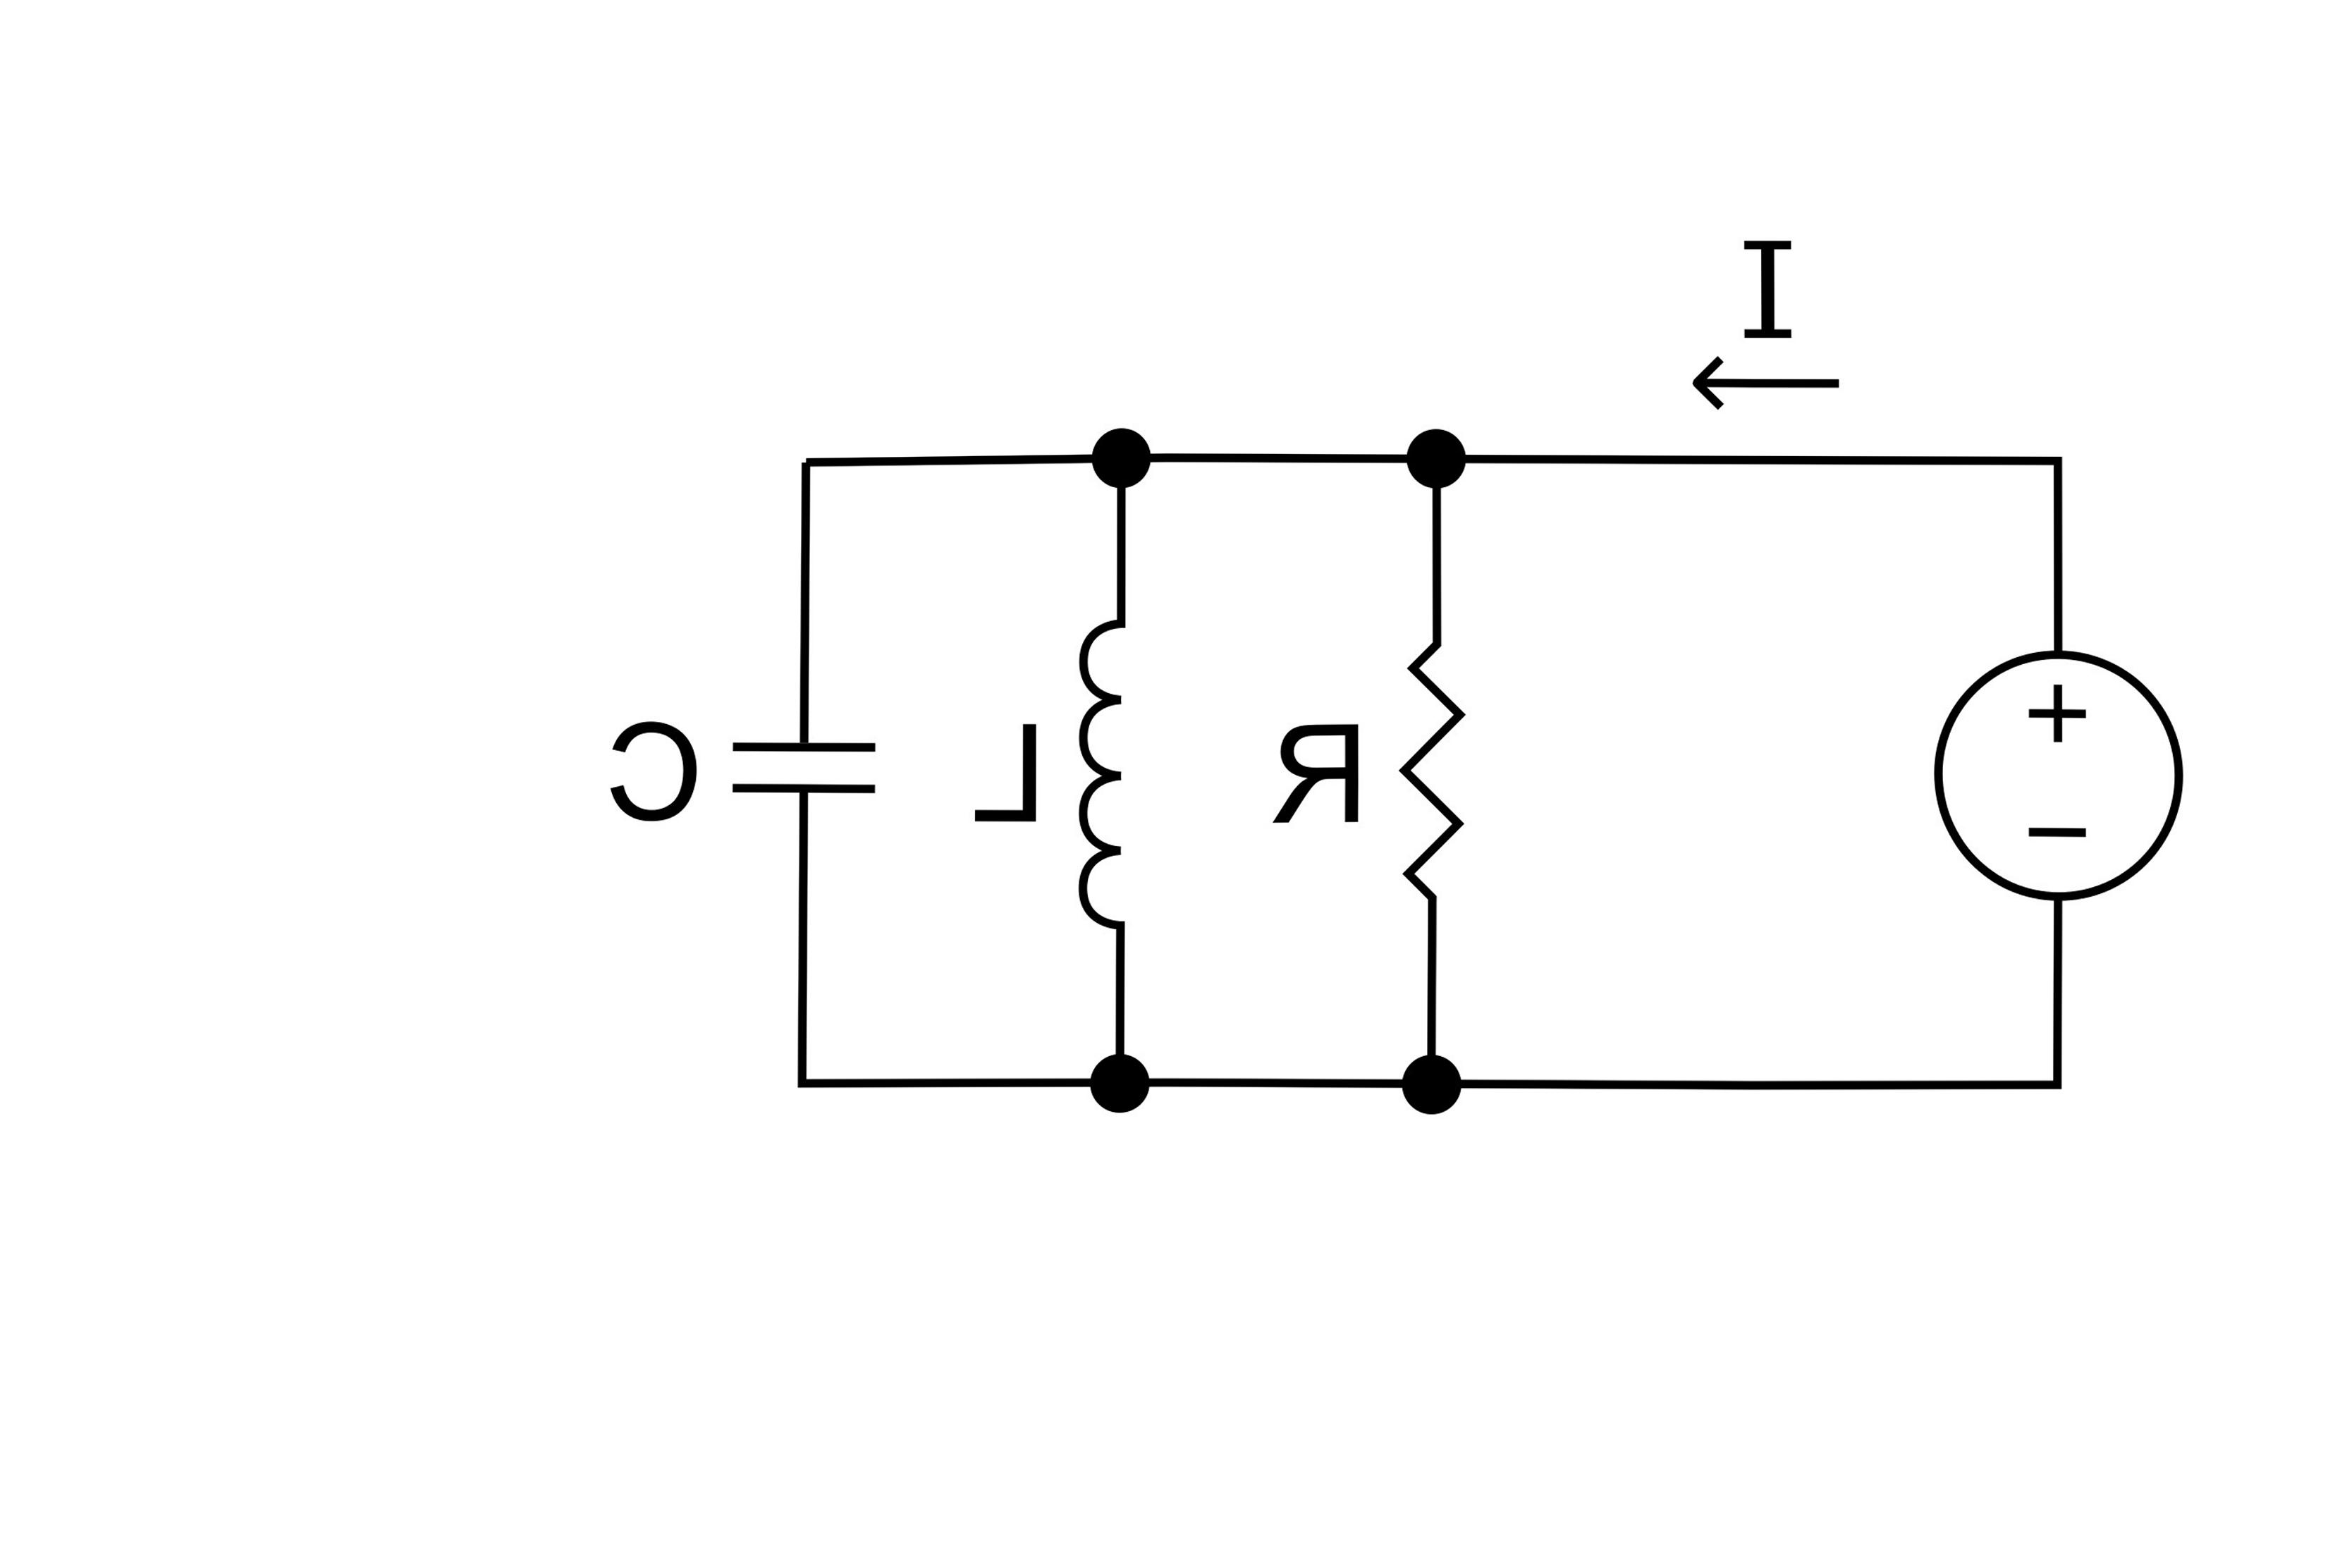Battery: (1877, 612, 2216, 941)
